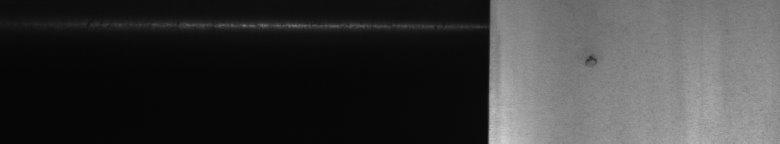fi: (582, 48, 600, 72)
